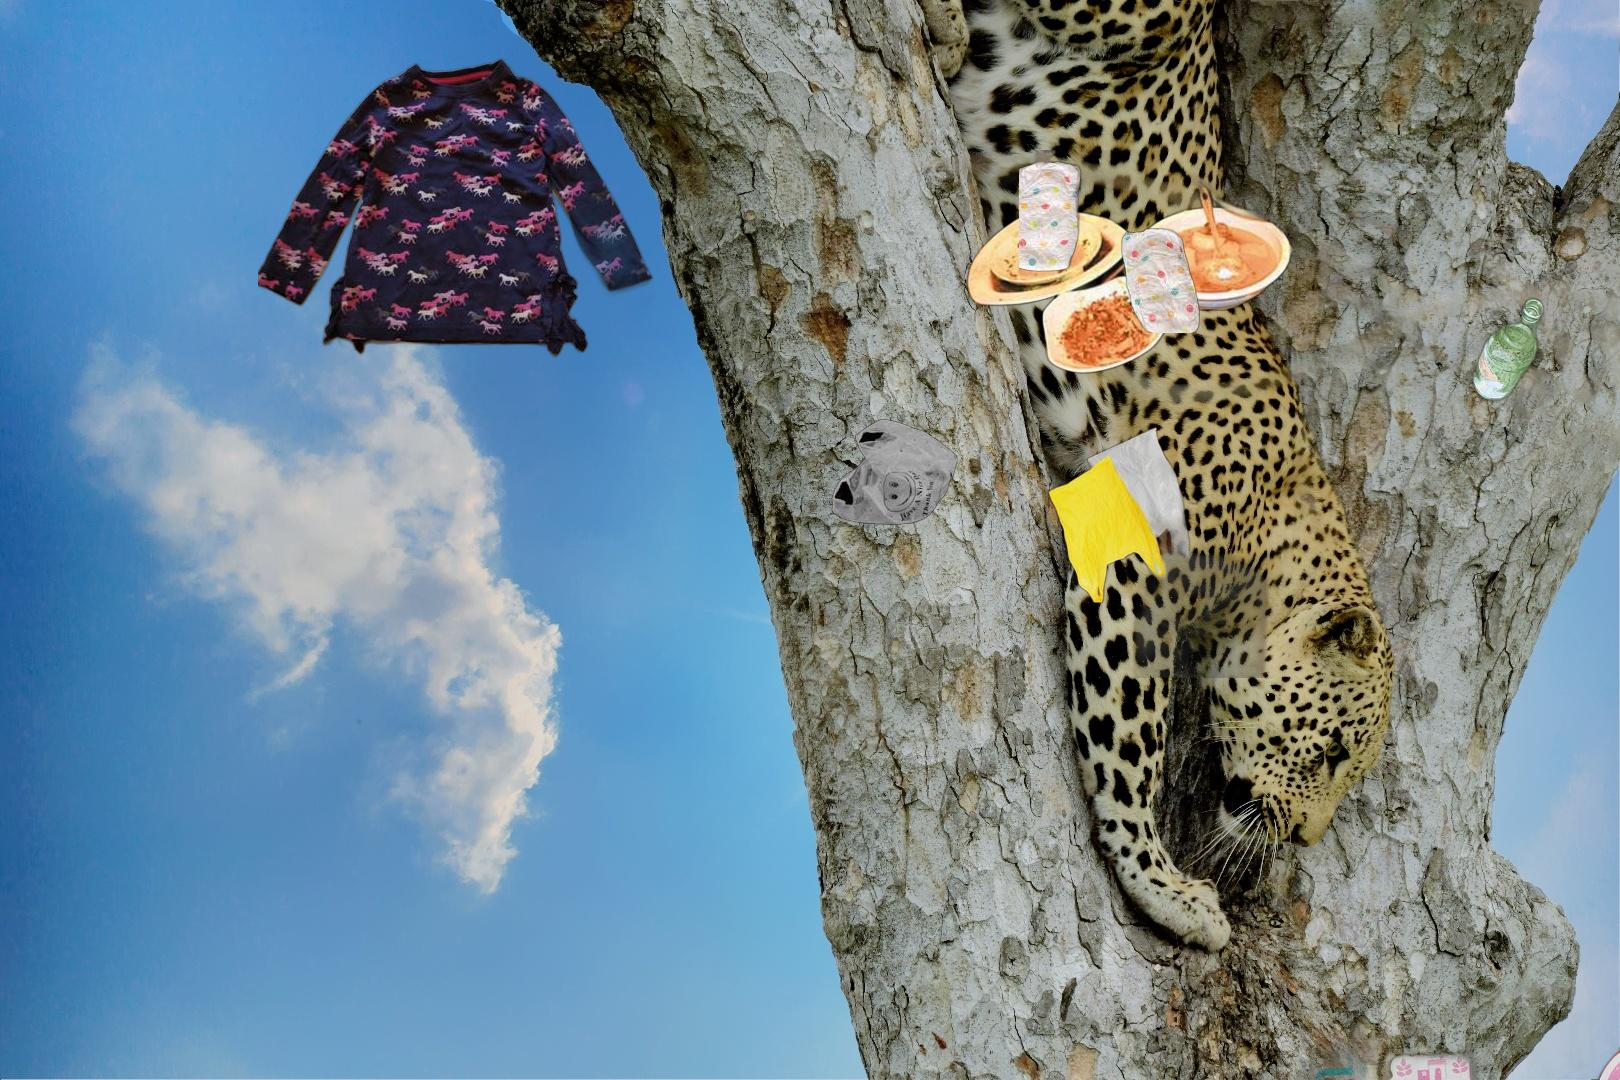biological: (963, 84, 1463, 401)
clothes: (258, 55, 658, 360)
glass: (1235, 292, 1549, 720)
penholder: (1287, 914, 1620, 1080)
plastic-bag: (1045, 425, 1276, 677), (829, 417, 959, 527)
trash: (1019, 149, 1202, 333)
